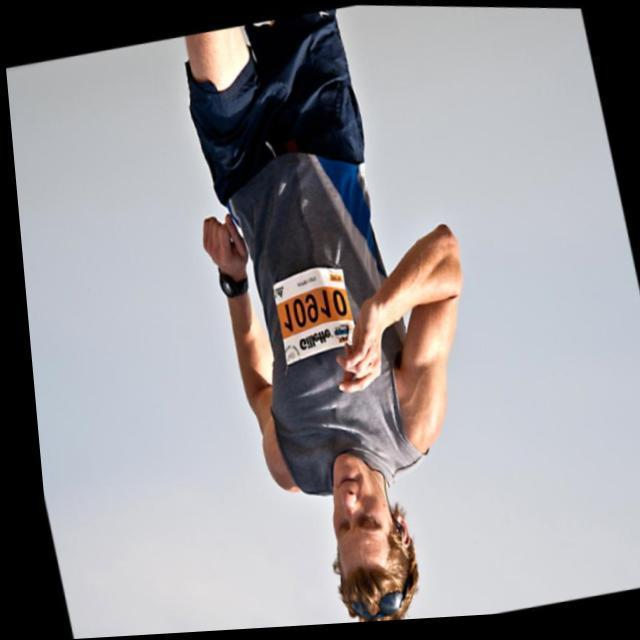dorsal: (251, 247, 374, 380)
